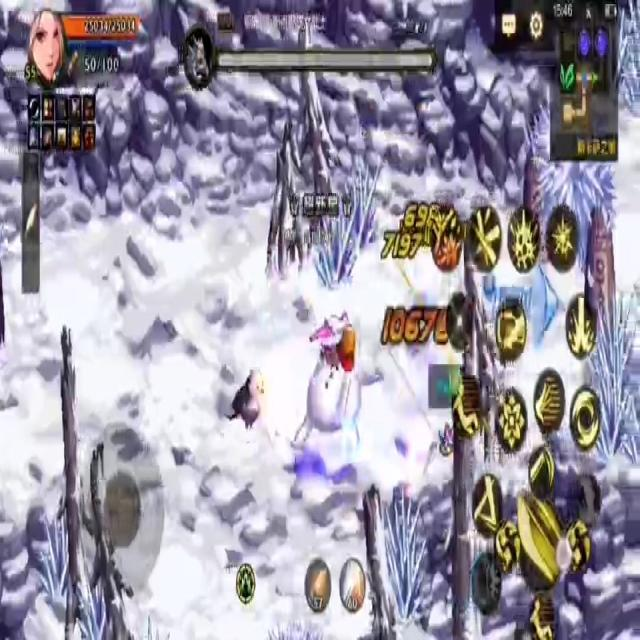player: (289, 316, 362, 460)
